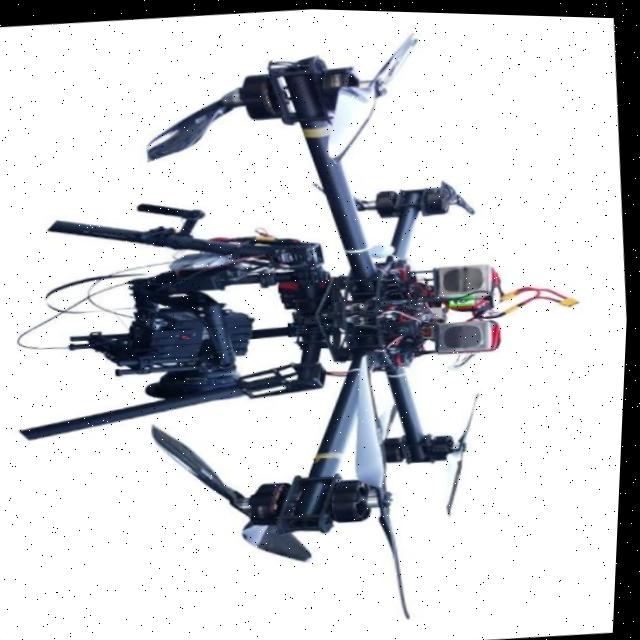drones: (0, 5, 631, 640)
